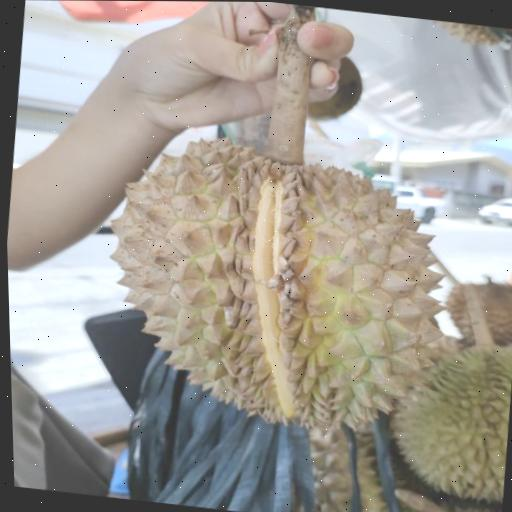rot: (21, 0, 506, 504)
